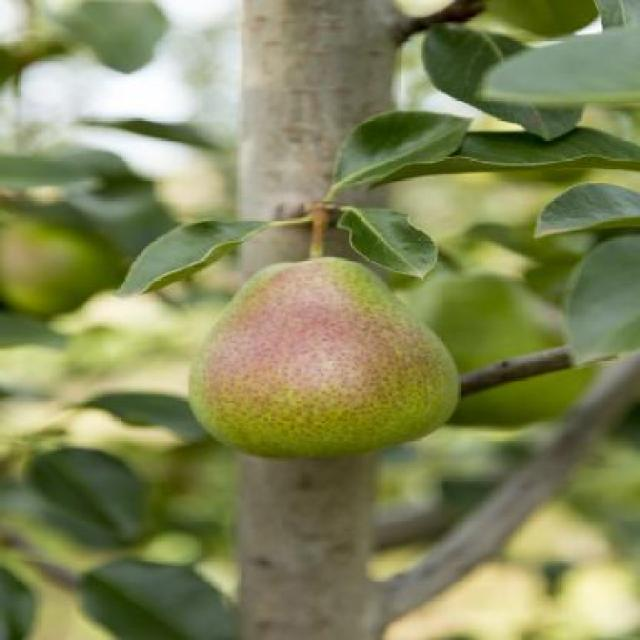Pear: (188, 204, 463, 460), (0, 207, 118, 315)
